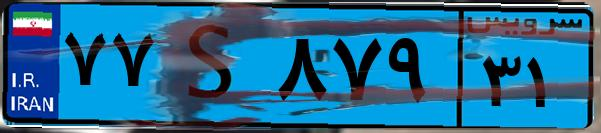1: (525, 38, 570, 115)
3: (475, 38, 525, 113)
7: (330, 28, 385, 110), (57, 26, 110, 100), (110, 28, 158, 98)
8: (270, 28, 330, 110)
9: (385, 28, 445, 110)
S: (158, 12, 270, 120)
